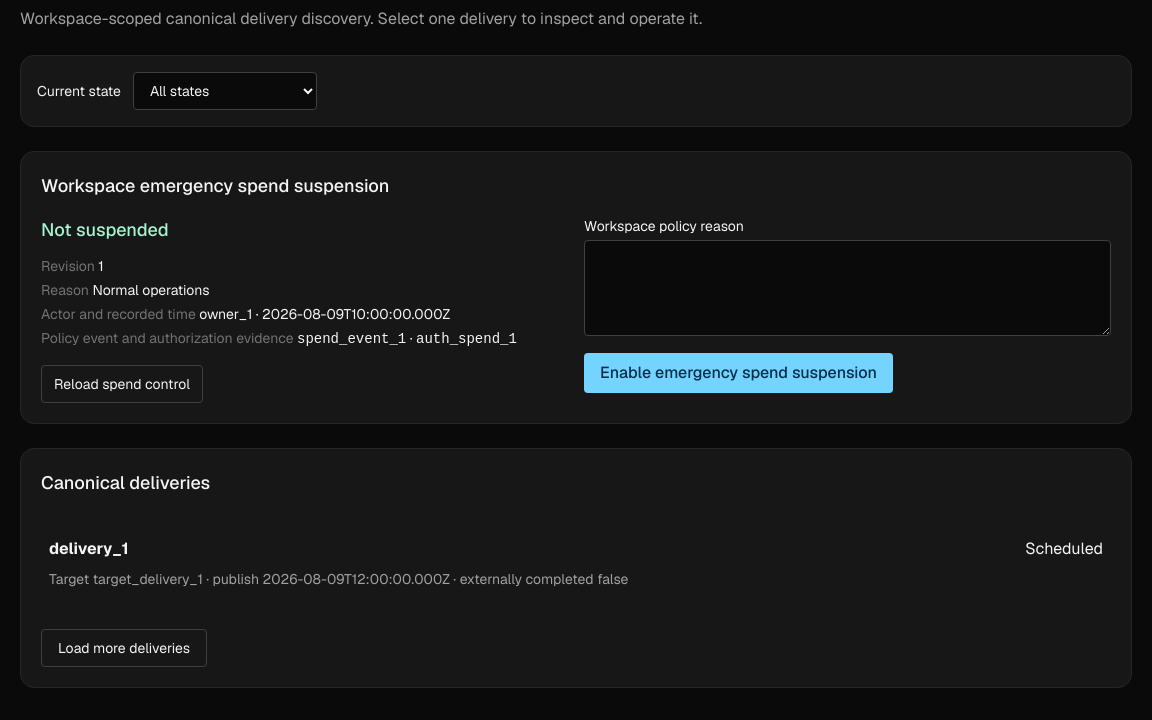
Test: DeliveryIndex › discovers Workspace Deliveries and continues the sealed Human cursor
(page scrolled)
Click the button "Load more deliveries".
click(124, 648)  # box [41,629,207,667]
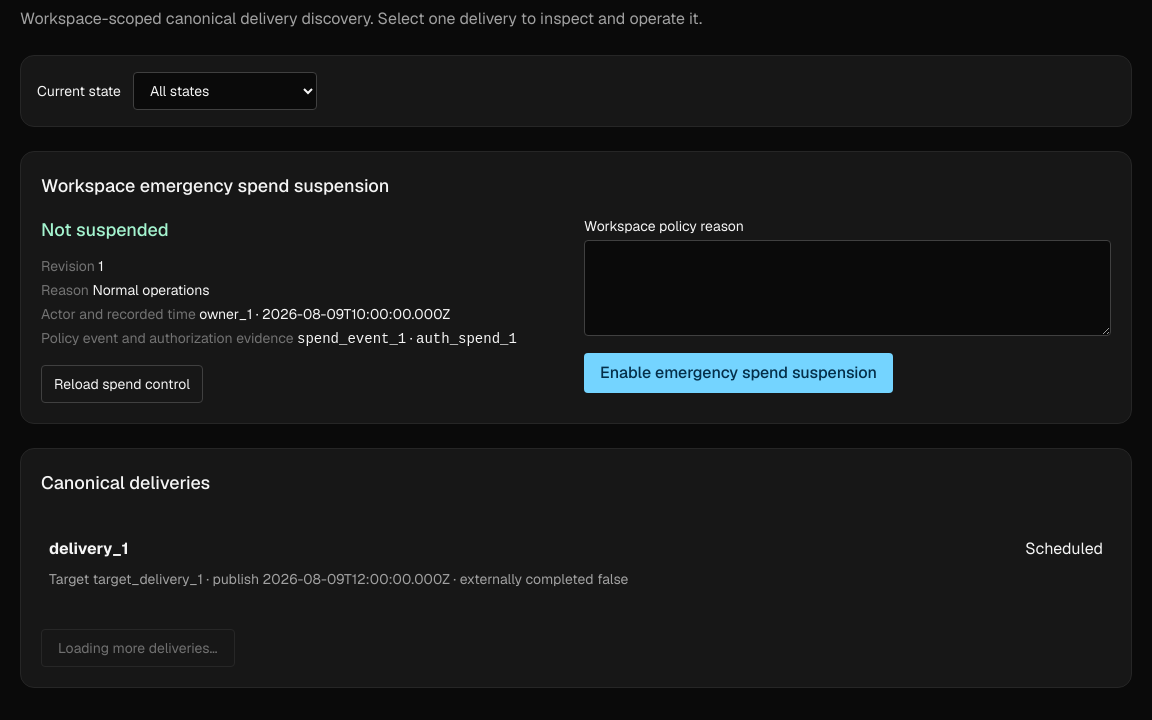
Click the button named "Load more deliveries".
click(138, 648)  # box [41,629,235,667]
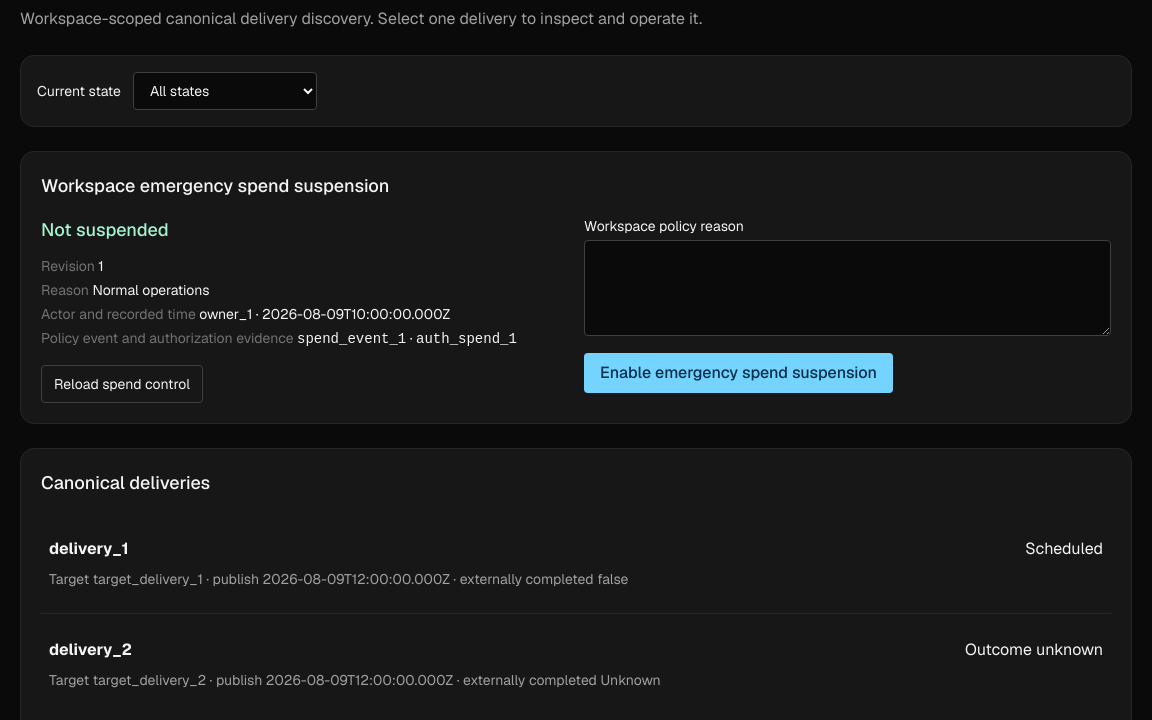
Check: the link "delivery_2" is shown, box [41,630,1111,698]
Check: the number of links is 2, box [41,529,1111,597]; [41,630,1111,698]
